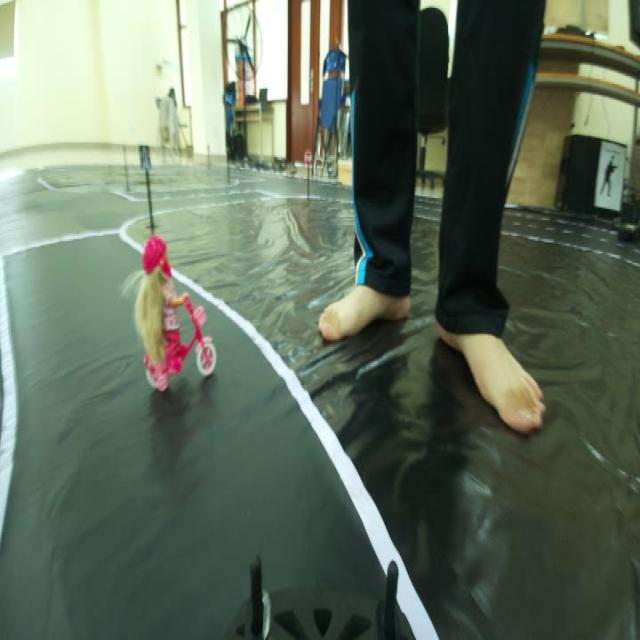pedestrian: (127, 229, 227, 386)
